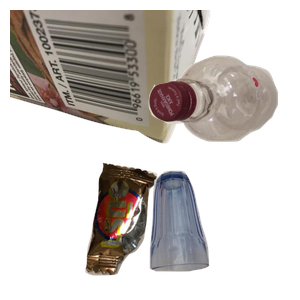cardboard: (10, 10, 213, 146)
glass: (147, 168, 300, 300)
plastic: (146, 53, 300, 187)
trash: (83, 160, 233, 300)
